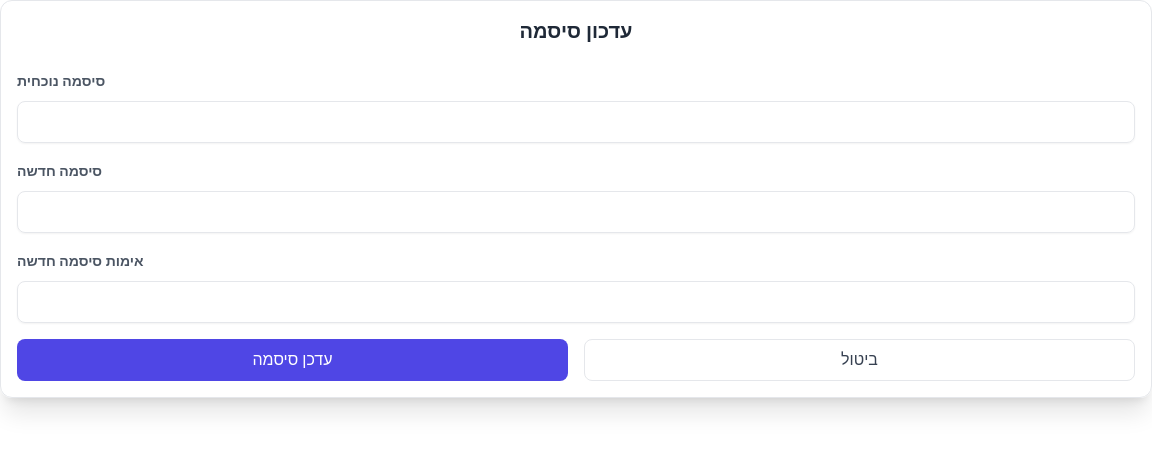
UpdatePasswordForm › validates new password requirements
The image size is (1152, 456).
In the password field labelled "סיסמה נוכחית": (576, 122) x1=17 y1=101 x2=1135 y2=143, type "CurrentPass123"
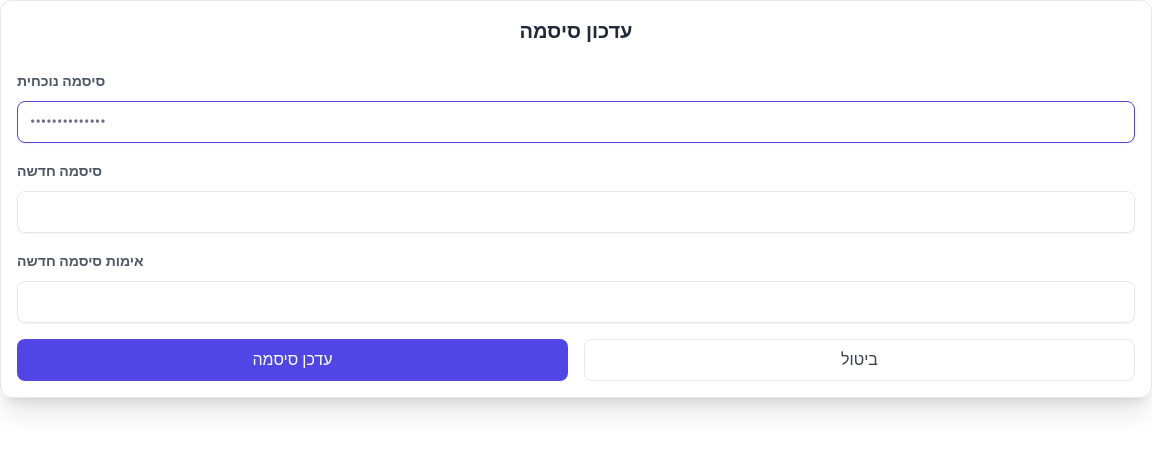
In the password field labelled "סיסמה חדשה": (576, 212) x1=17 y1=191 x2=1135 y2=233, type "weak"
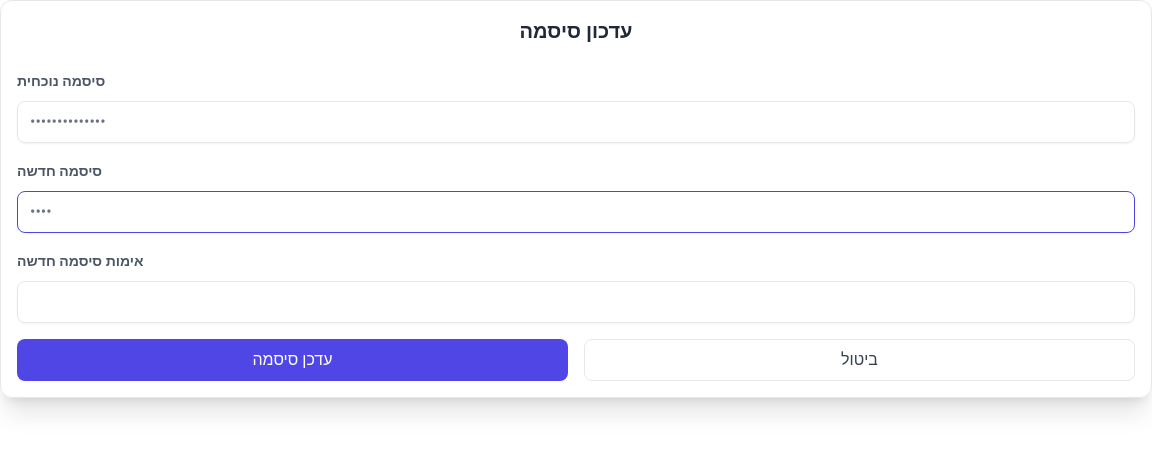
In the password field labelled "אימות סיסמה חדשה": (576, 302) x1=17 y1=281 x2=1135 y2=323, type "weak"
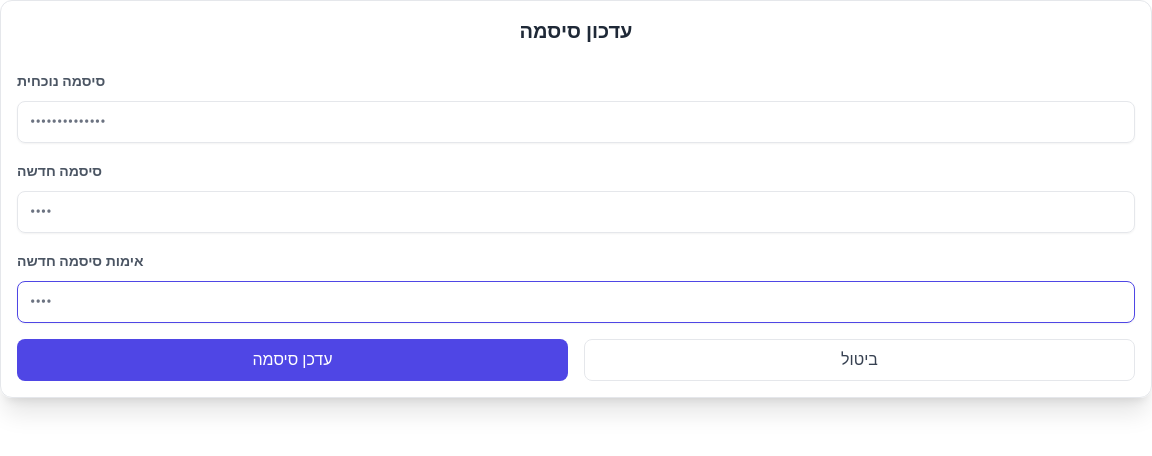
Click the button "עדכן סיסמה": (292, 360) x1=17 y1=339 x2=568 y2=381
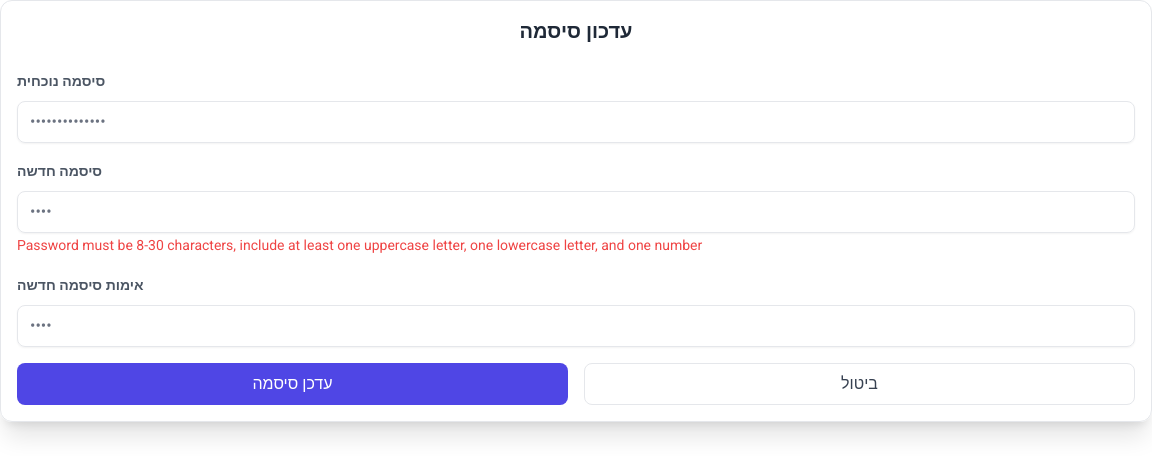
Now the text "Password must be 8-30 characters" is shown, box x1=17 y1=237 x2=702 y2=253
